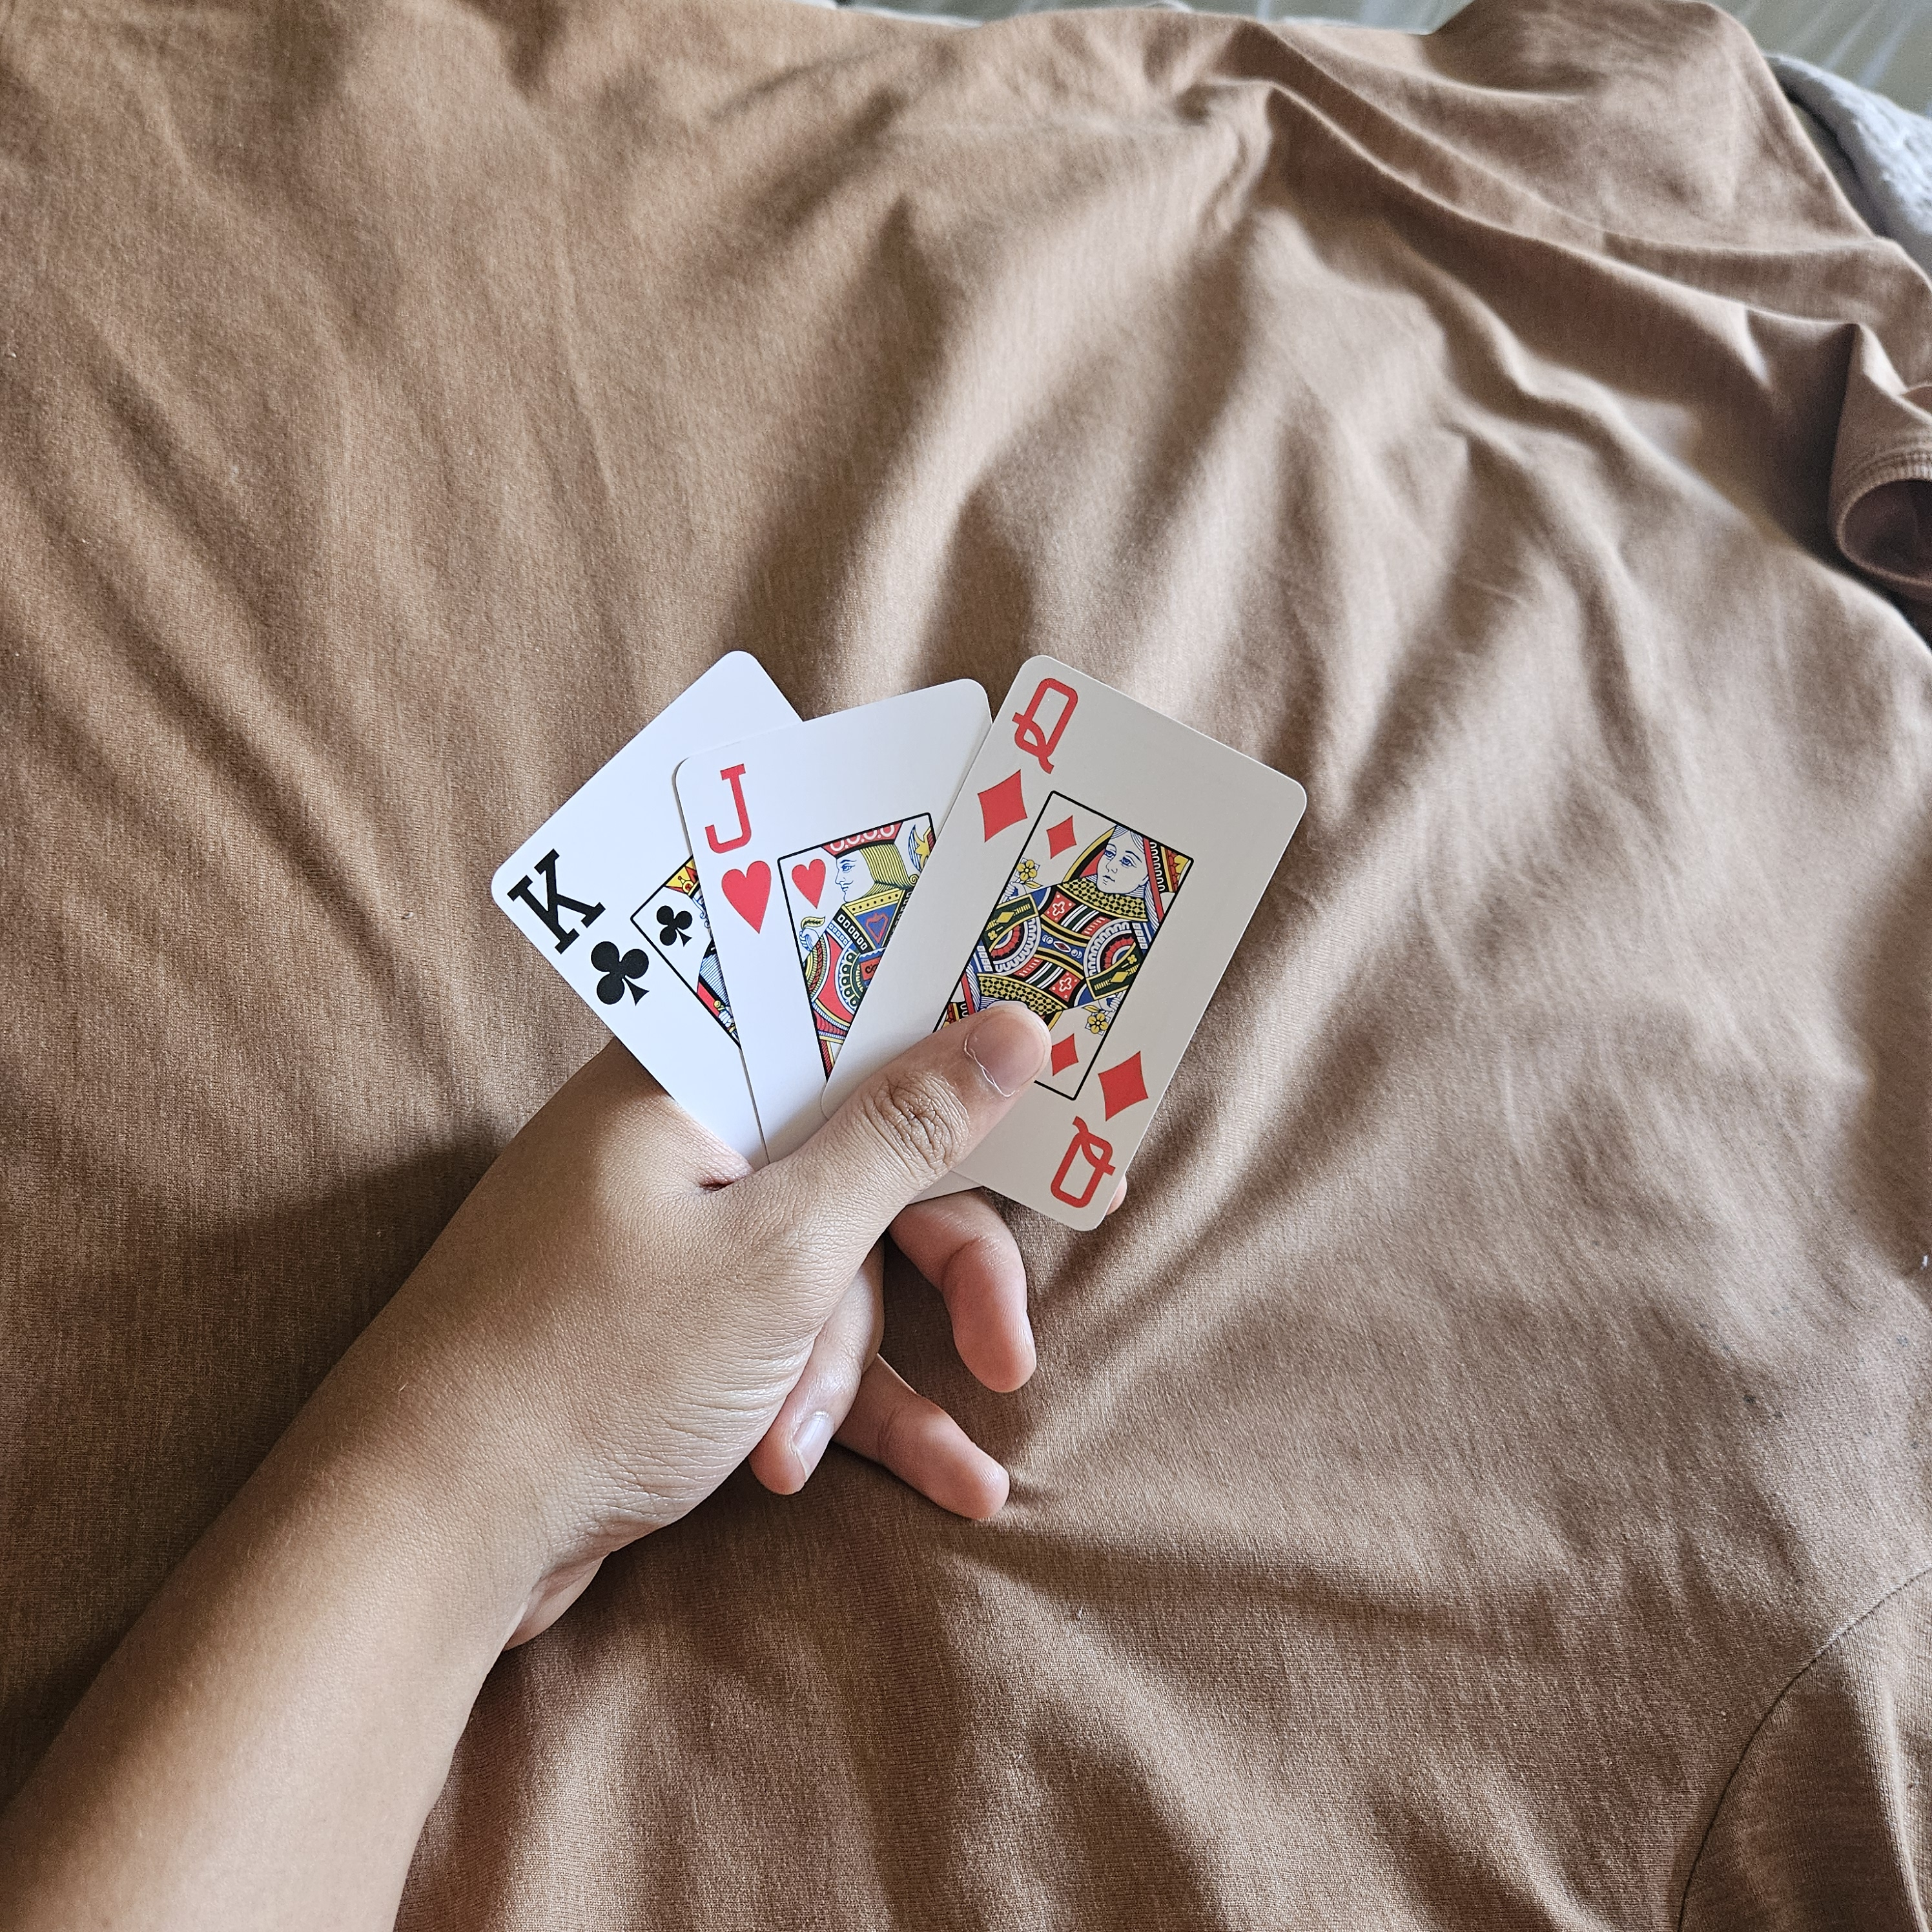JC: (683, 755, 793, 939)
KP: (494, 824, 663, 1012)
QO: (964, 669, 1097, 853), (1040, 1035, 1154, 1228)
